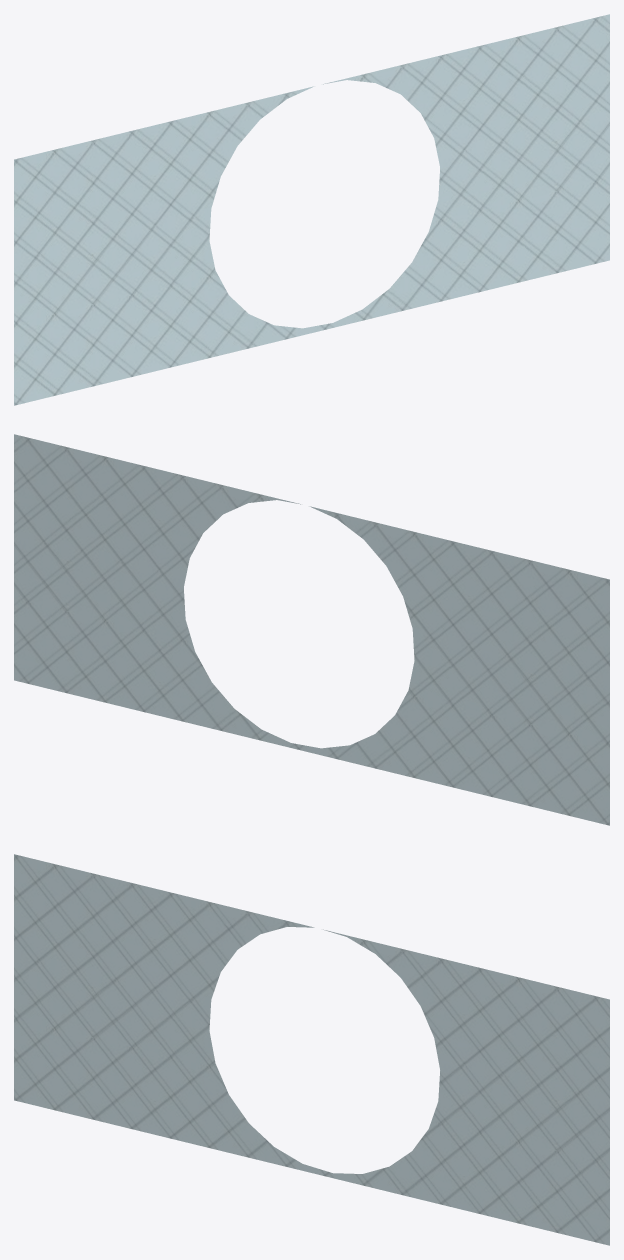
Rendered from original-7.obj.
The picture shows the model from 3 angles, top to bottom: view 1: azimuth 30°, elevation 25°; view 2: azimuth 150°, elevation 25°; view 3: azimuth 330°, elevation 25°; orthographic projection.
Visible parts, largest first — view 1: 3dw.1f419ba839c771df6d07533ccc0d1b77/Model/Group_1_1/Group_1/mes; view 2: 3dw.1f419ba839c771df6d07533ccc0d1b77/Model/Group_1_1/Group_1/mes; view 3: 3dw.1f419ba839c771df6d07533ccc0d1b77/Model/Group_1_1/Group_1/mes.
Part boxes in pixels (x1,y1,x2,y2): 3dw.1f419ba839c771df6d07533ccc0d1b77/Model/Group_1_1/Group_1/mes: (14,14,609,405); 3dw.1f419ba839c771df6d07533ccc0d1b77/Model/Group_1_1/Group_1/mes: (14,434,609,825); 3dw.1f419ba839c771df6d07533ccc0d1b77/Model/Group_1_1/Group_1/mes: (14,854,609,1245).
Bounding box in the file's own units: 0.1537 × 0.0607 × 0.
Materials: 1 (1 with a texture image).
